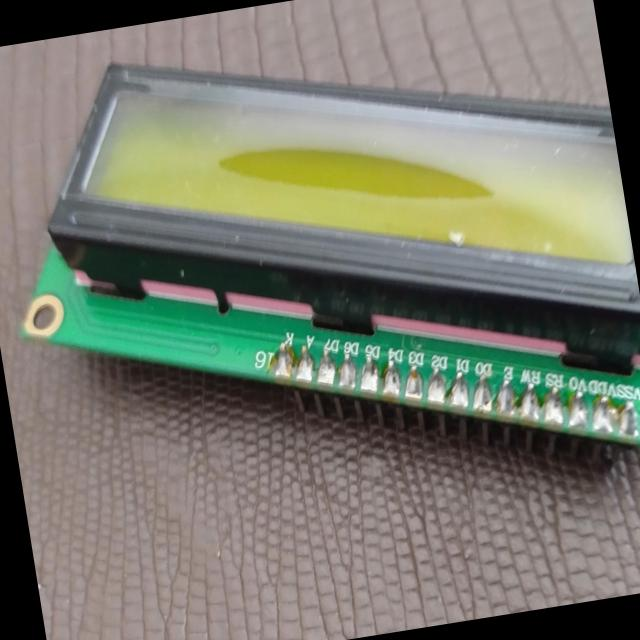lcd: (0, 0, 640, 558)
